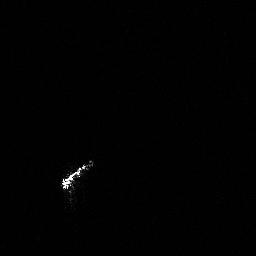ship: (56, 156, 98, 193)
